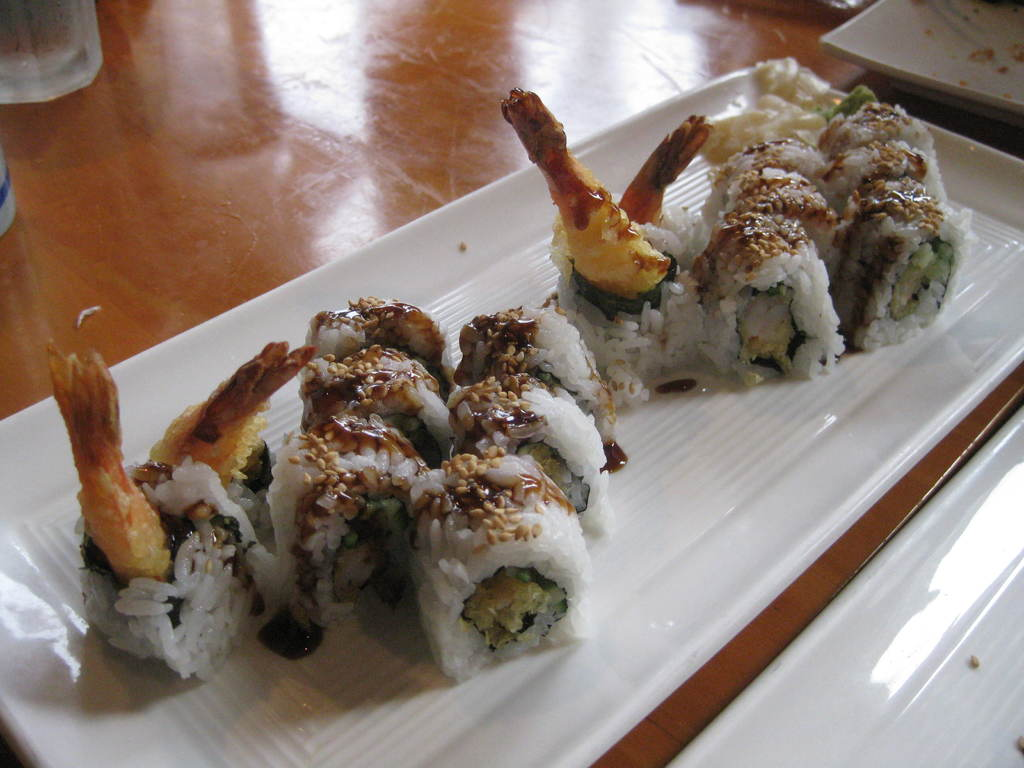sushi: (47, 85, 965, 676), (392, 452, 593, 679), (413, 454, 593, 680)
